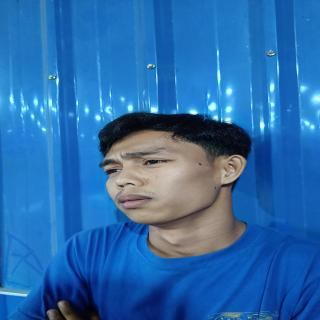Sedih: (94, 128, 220, 227)
